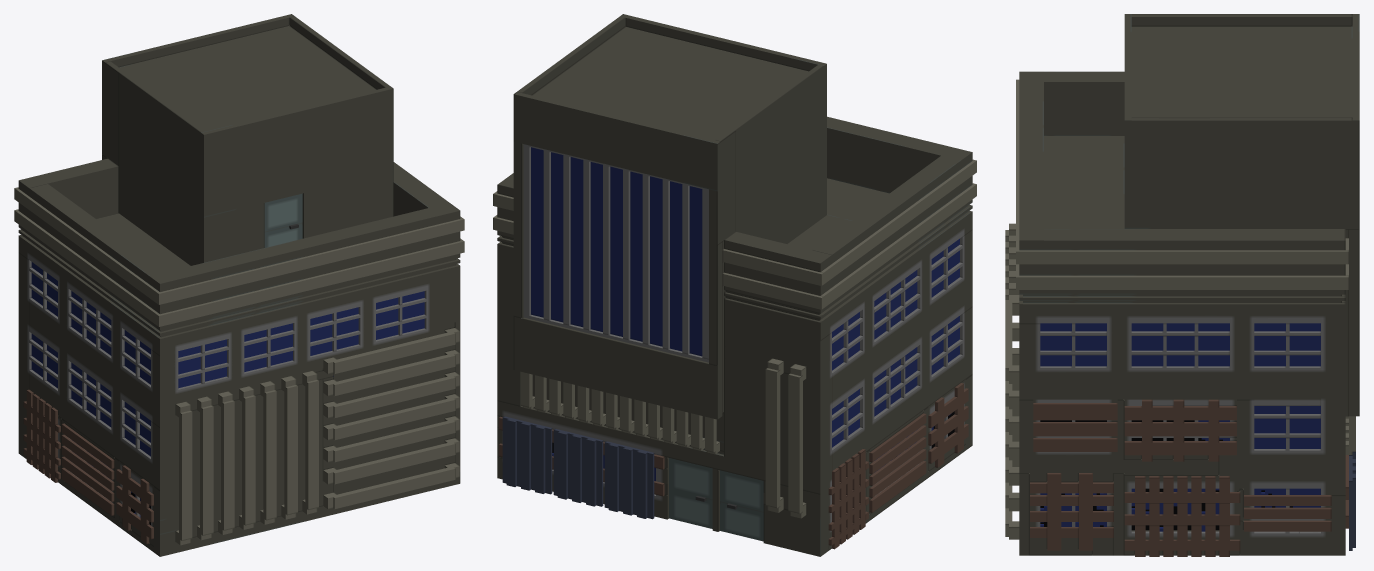
File: budynek_fabryki.dae
3 views of the same model, side by side, from view 1: azimuth 30°, elevation 25°; view 2: azimuth 150°, elevation 25°; view 3: azimuth 270°, elevation 25° (orthographic). The views are drawn at different scales.
Visible parts, largest first — view 1: Content; view 2: Content; view 3: Content.
Part boxes in pixels (x1,y1,x2,y2): Content: [14, 14, 464, 556]; Content: [493, 14, 976, 556]; Content: [1005, 14, 1359, 556].
Size of the model in its own units: 116 by 133 by 101.
1 material, 1 textured.
